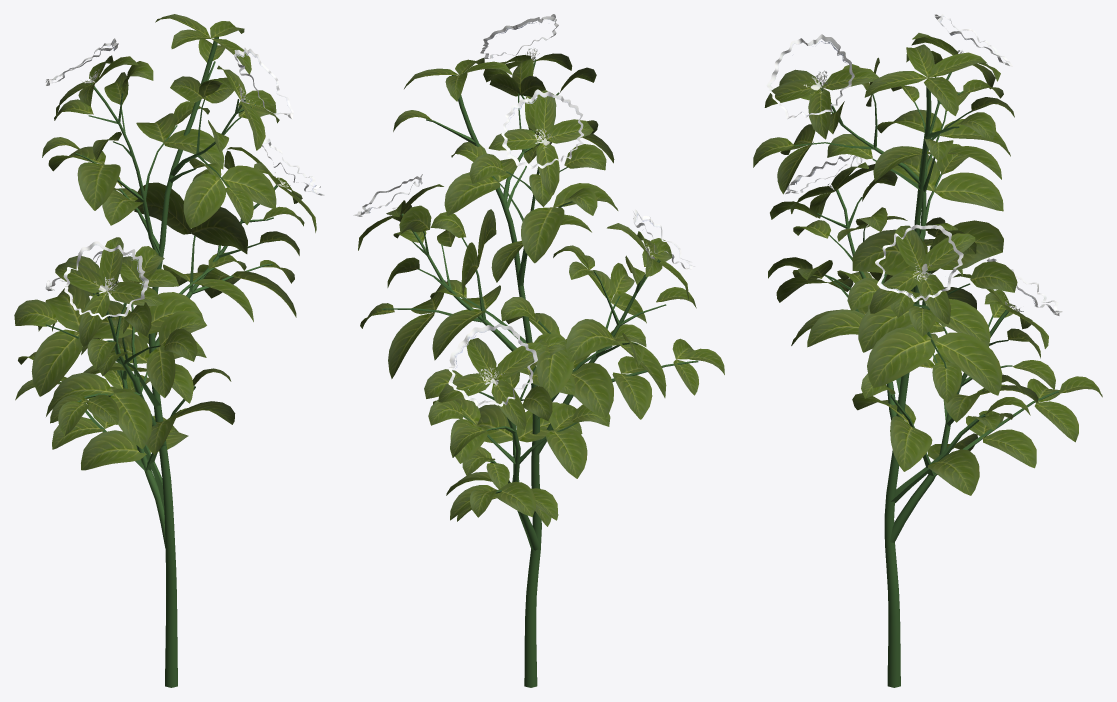
The model's file is Rose_5_zigzag.fbx.
3 views of the same model, side by side, from view 1: azimuth 30°, elevation 25°; view 2: azimuth 150°, elevation 25°; view 3: azimuth 270°, elevation 25° (orthographic). The views are drawn at different scales.
Visible parts, largest first — view 1: rose_5_zizag_leaf, rose_5_zigzag_stem, rose_5_zigzag_petal; view 2: rose_5_zizag_leaf, rose_5_zigzag_stem, rose_5_zigzag_petal; view 3: rose_5_zizag_leaf, rose_5_zigzag_stem, rose_5_zigzag_petal.
Part boxes in pixels (bbox=[...]): rose_5_zizag_leaf: bbox=[14, 14, 316, 470]; rose_5_zigzag_stem: bbox=[45, 37, 277, 687]; rose_5_zigzag_petal: bbox=[45, 38, 324, 319]; rose_5_zizag_leaf: bbox=[358, 53, 724, 526]; rose_5_zigzag_stem: bbox=[382, 59, 698, 687]; rose_5_zigzag_petal: bbox=[353, 14, 694, 406]; rose_5_zizag_leaf: bbox=[753, 33, 1102, 495]; rose_5_zigzag_stem: bbox=[794, 72, 1058, 687]; rose_5_zigzag_petal: bbox=[766, 14, 1062, 315].
Bounding box in the file's own units: 12.39 × 24.47 × 11.68.
3 materials, 2 textured.
